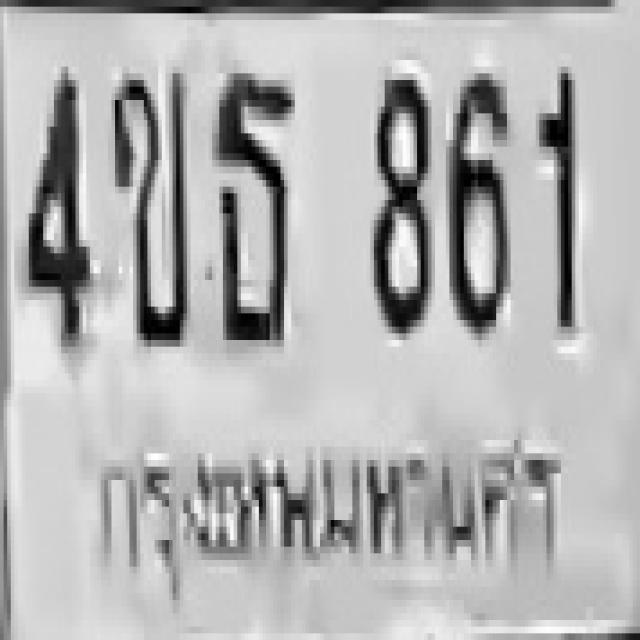1: (534, 63, 573, 330)
4: (18, 64, 86, 344)
6: (446, 66, 507, 326)
8: (368, 66, 429, 326)
A02: (106, 64, 185, 344)
A24: (209, 67, 291, 340)
BKK: (79, 421, 568, 612)
